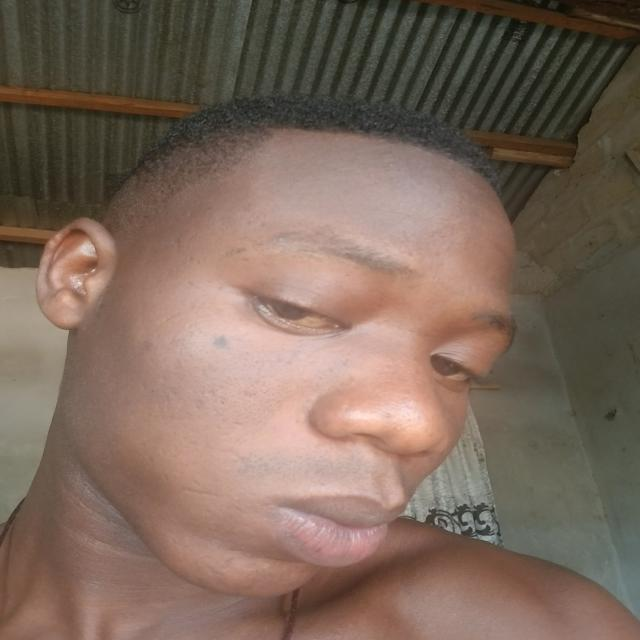Blackheads: (202, 359, 287, 428)
